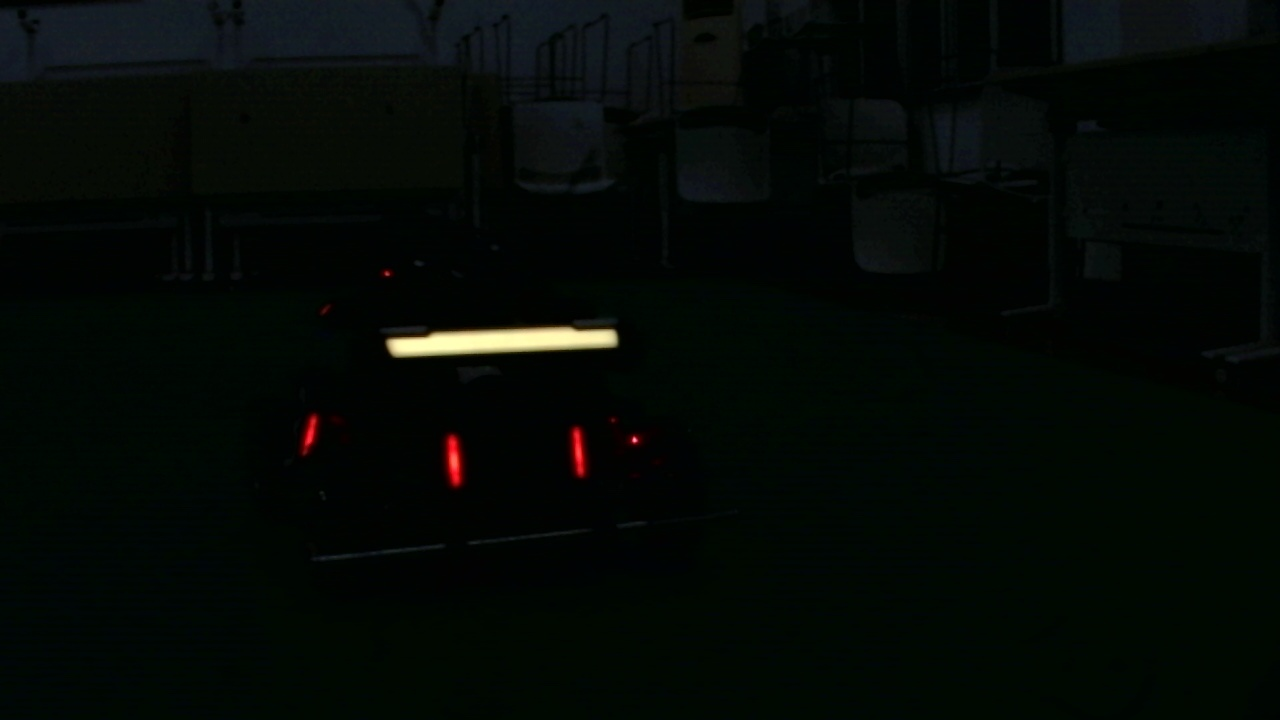lamp: (443, 427, 463, 490), (570, 427, 588, 478), (299, 407, 317, 451)
notpair1: (297, 408, 466, 488)
pair1: (444, 430, 589, 489)
